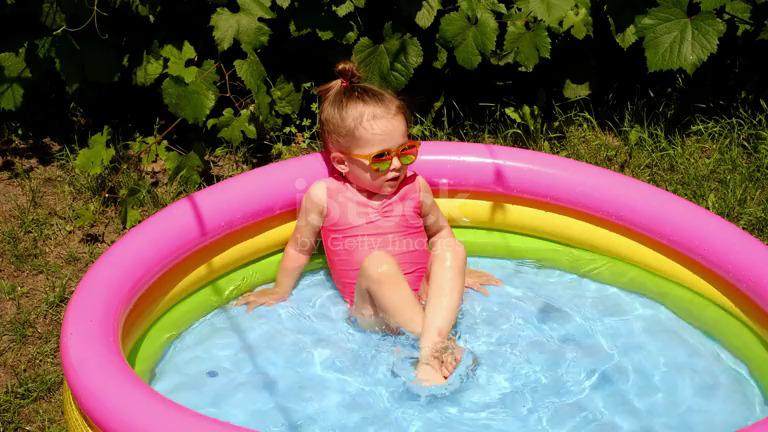Swimming: (232, 63, 536, 374)
